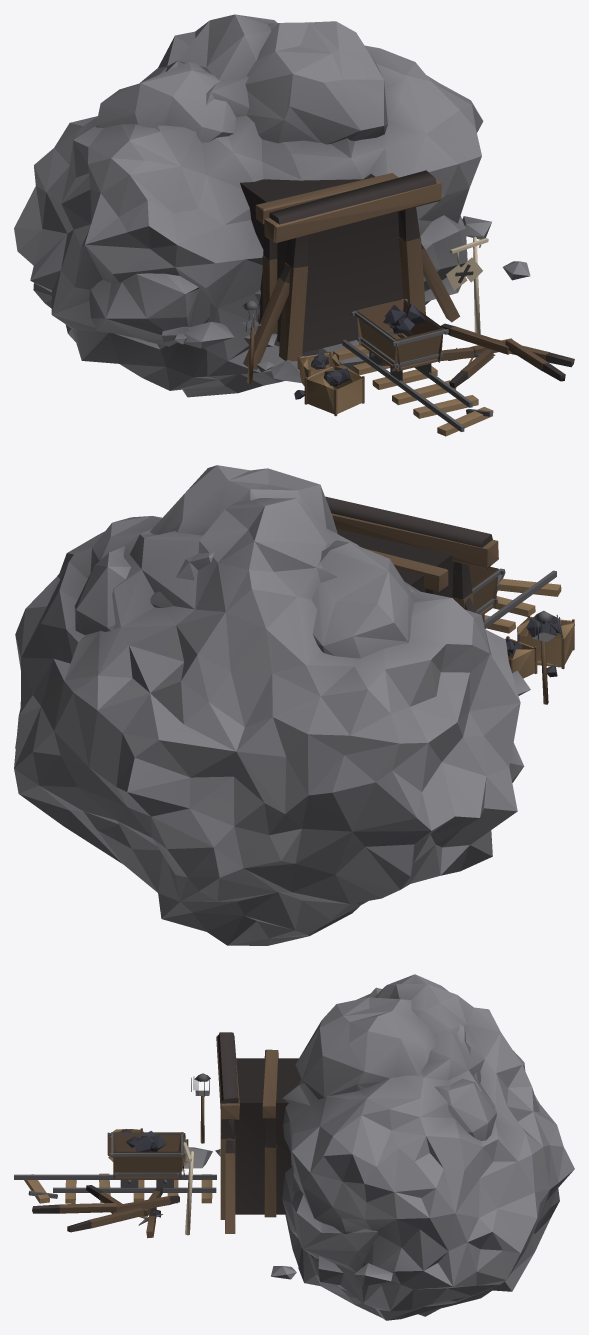
The model's file is mine_head_far.glb.
The picture shows the model from 3 angles, top to bottom: view 1: azimuth 30°, elevation 25°; view 2: azimuth 150°, elevation 25°; view 3: azimuth 270°, elevation 25°; orthographic projection. The views are drawn at different scales.
Parts seen in each view (by area): view 1: mine_head; view 2: mine_head; view 3: mine_head.
Boxes of the visible parts, left/top/right/bottom form: mine_head: left=14, top=14, right=574, bottom=436; mine_head: left=14, top=465, right=574, bottom=945; mine_head: left=14, top=974, right=574, bottom=1320.
Bounding box in the file's own units: 9.83 × 8.39 × 13.21.
